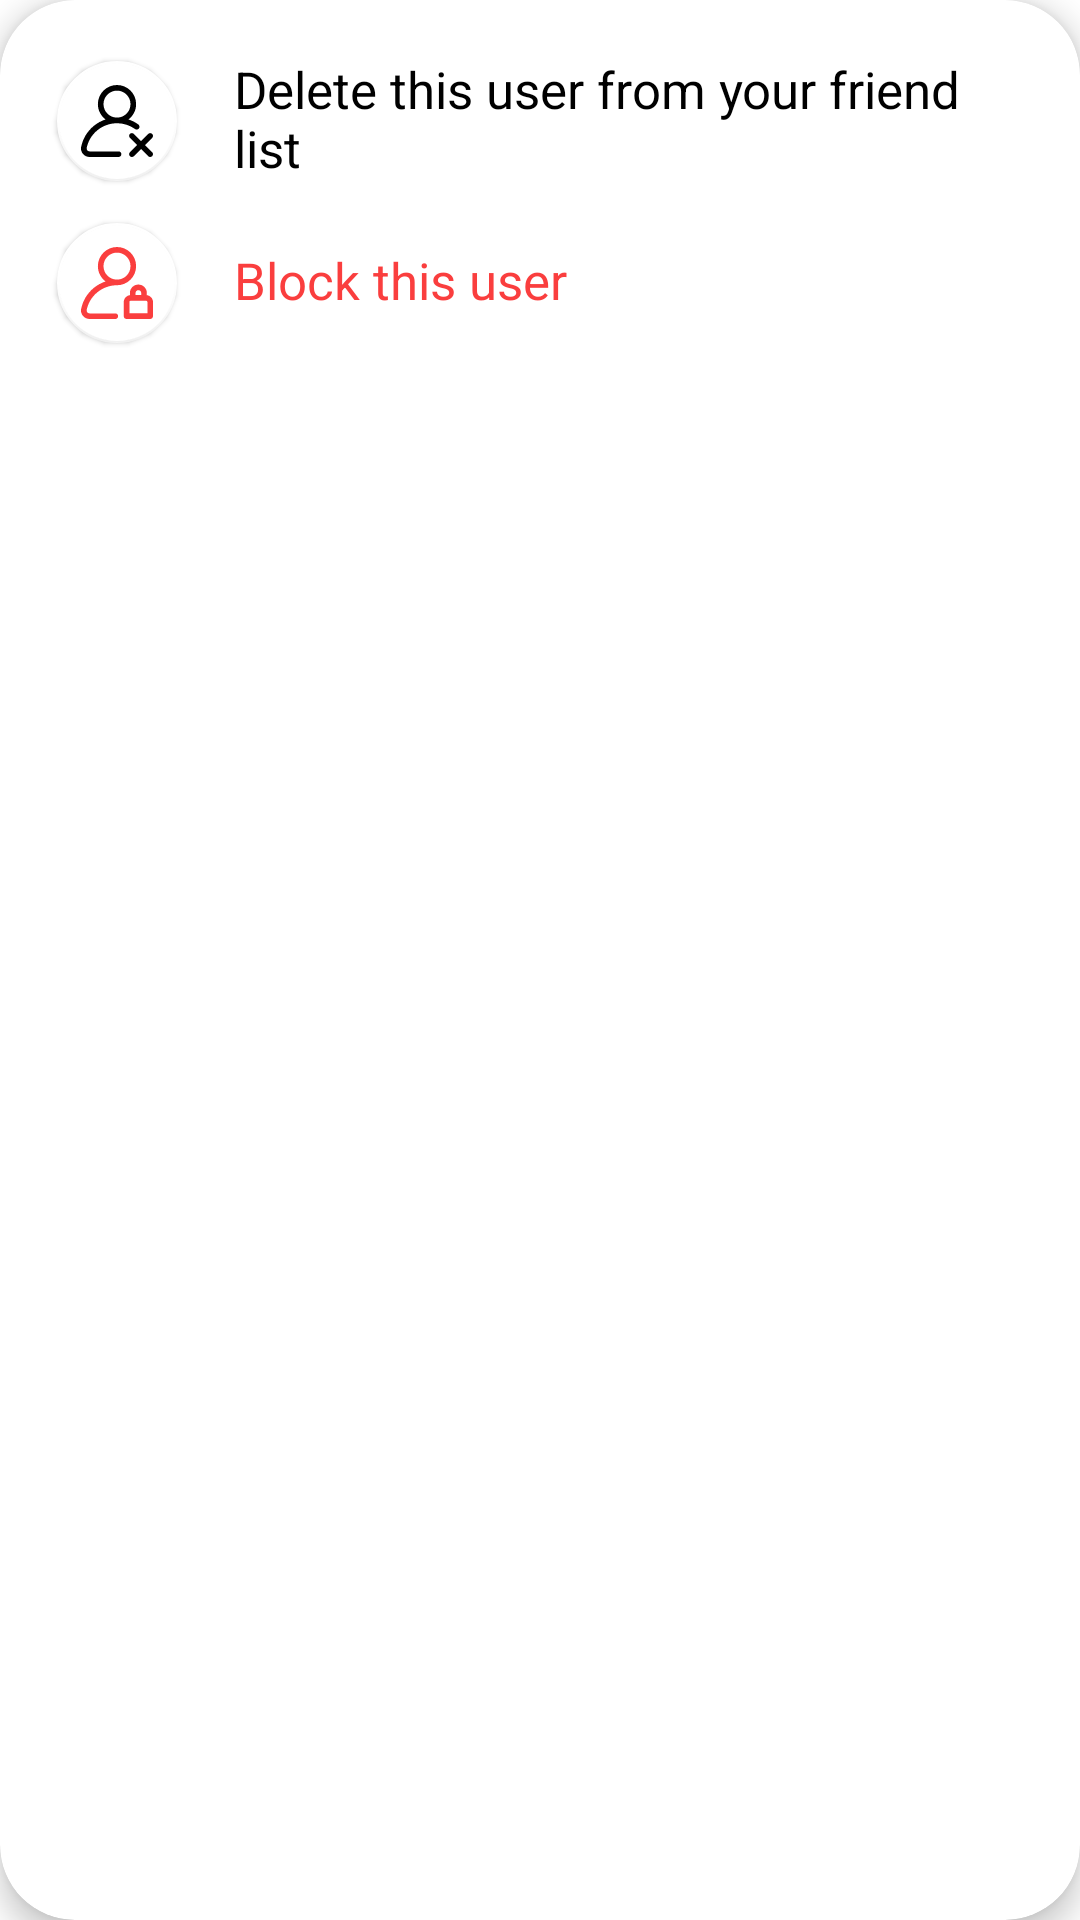

Named icons in this screenshot (1080×1920) and their bounding boxes, bbox=(x1, y1, x2, y2):
remove user: bbox=(57, 85, 153, 181)
